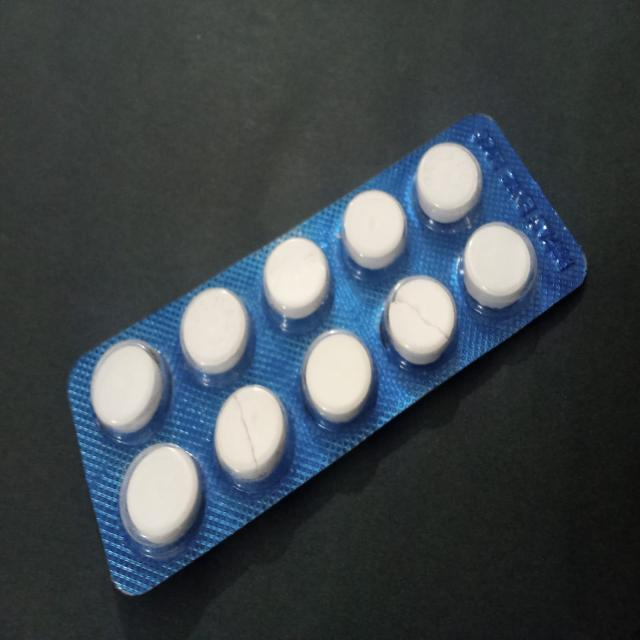defect: (211, 383, 292, 487), (378, 271, 460, 372)
